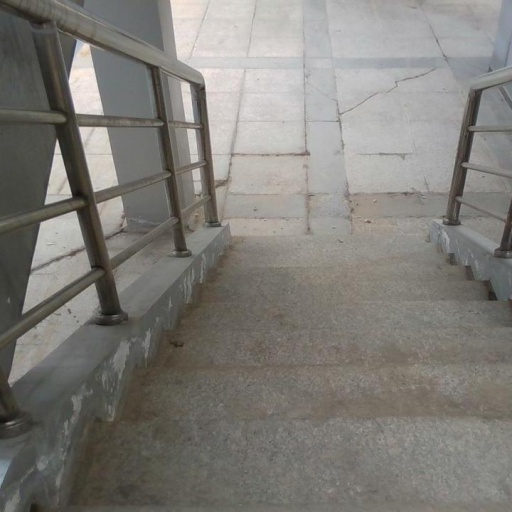Stairs: (66, 218, 512, 512)
